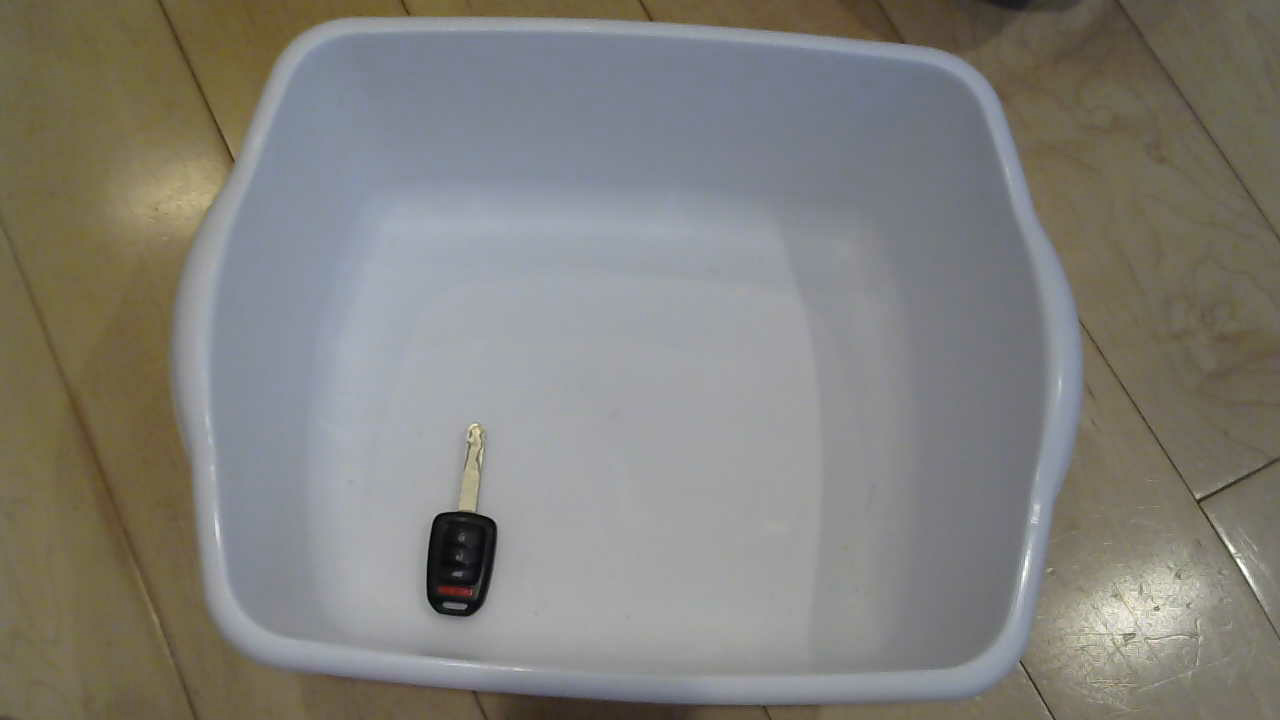key: (405, 421, 529, 626)
